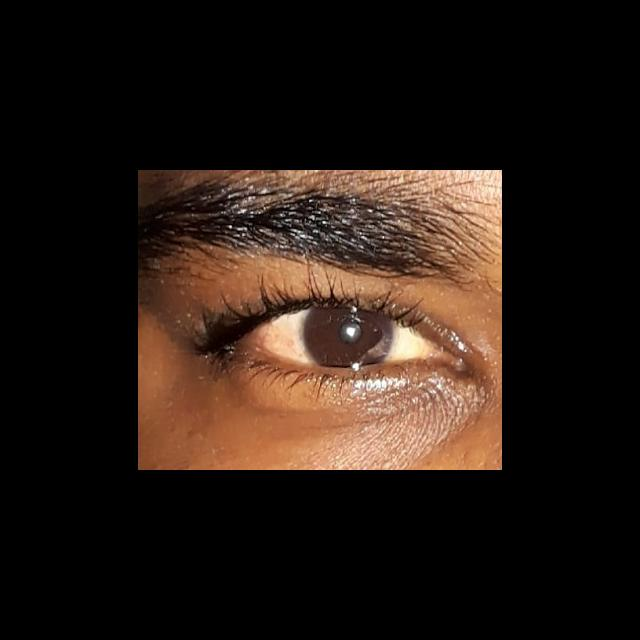eye: (255, 301, 431, 371)
iris: (301, 306, 396, 367)
